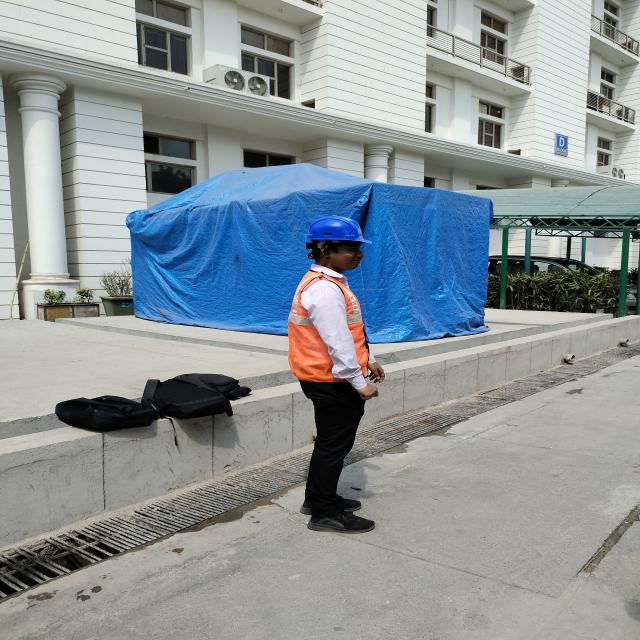safe: (288, 216, 384, 534)
